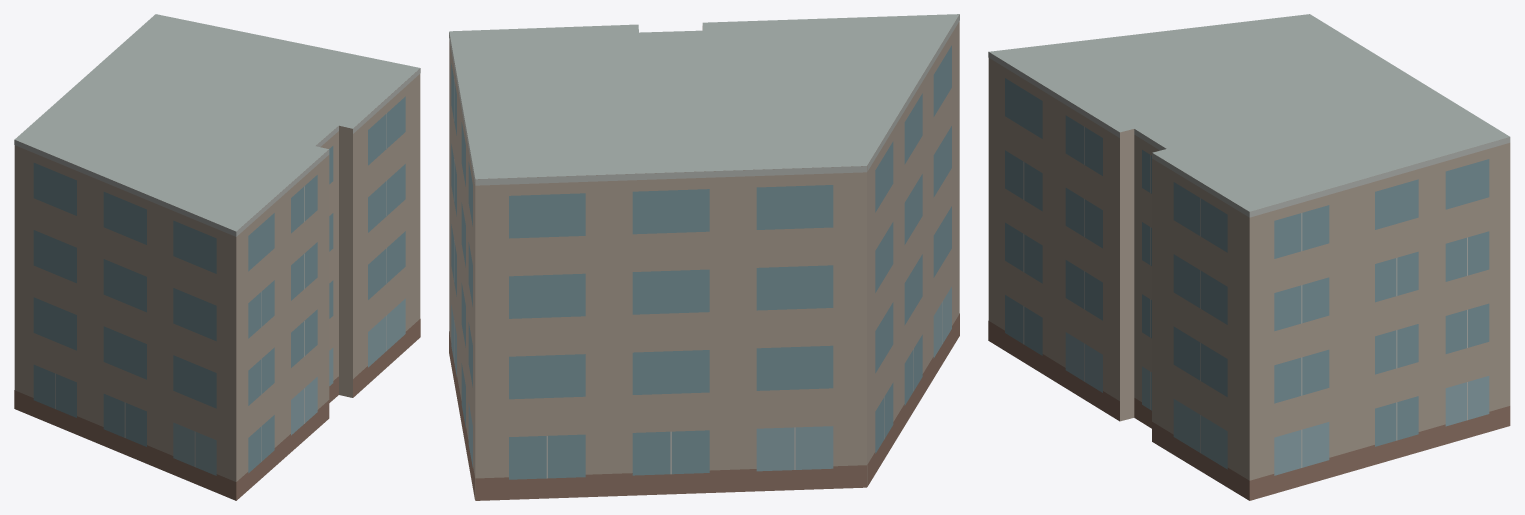
The model's file is survey-upis-32496925.glb.
The picture shows the model from 3 angles, left to right: view 1: azimuth 30°, elevation 25°; view 2: azimuth 150°, elevation 25°; view 3: azimuth 270°, elevation 25°; orthographic projection. The views are drawn at different scales.
Parts seen in each view (by area): view 1: survey-upis-32496925.tmp; view 2: survey-upis-32496925.tmp; view 3: survey-upis-32496925.tmp.
Boxes of the visible parts, <box> form: survey-upis-32496925.tmp: <box>14,14,420,500</box>; survey-upis-32496925.tmp: <box>449,14,959,500</box>; survey-upis-32496925.tmp: <box>988,14,1510,500</box>.
Size of the model in its own units: 17.92 by 12.2 by 19.97.
